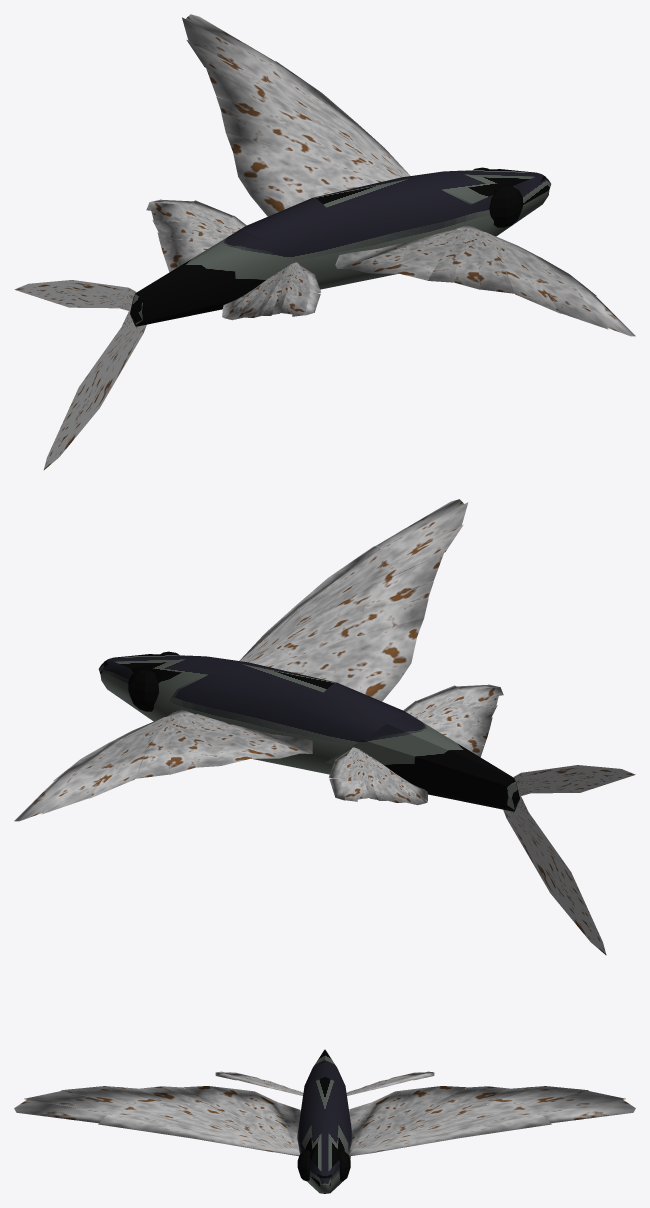
The model's file is fish.glb.
The picture shows the model from 3 angles, top to bottom: view 1: azimuth 30°, elevation 25°; view 2: azimuth 150°, elevation 25°; view 3: azimuth 270°, elevation 25°; orthographic projection. The views are drawn at different scales.
Visible parts, largest first — view 1: Object_6; view 2: Object_6; view 3: Object_6.
Part boxes in pixels (x1,y1,x2,y2): Object_6: (14, 14, 635, 470); Object_6: (14, 499, 635, 955); Object_6: (14, 1049, 635, 1193).
Size of the model in its own units: 11.57 by 4.4 by 16.46.
Materials: 5 (3 with a texture image).
